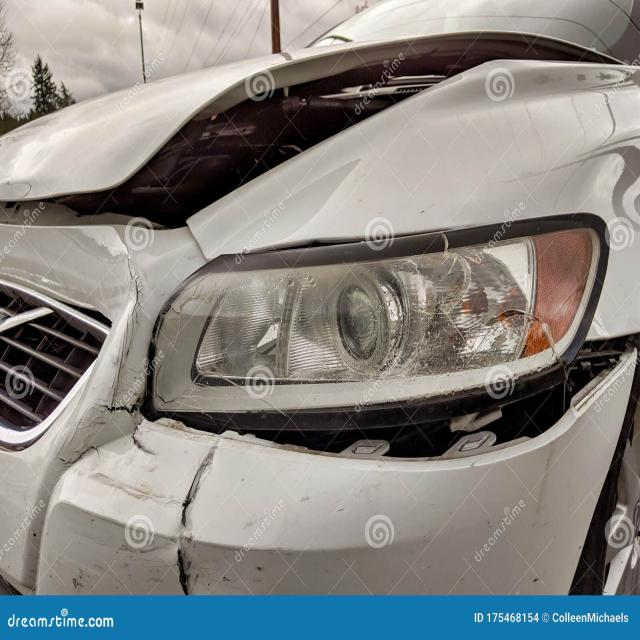crush: (0, 227, 325, 601)
dent: (0, 115, 85, 186)
misalignment: (0, 32, 628, 230), (155, 332, 640, 469)
tear: (172, 438, 223, 596), (102, 395, 143, 419)
